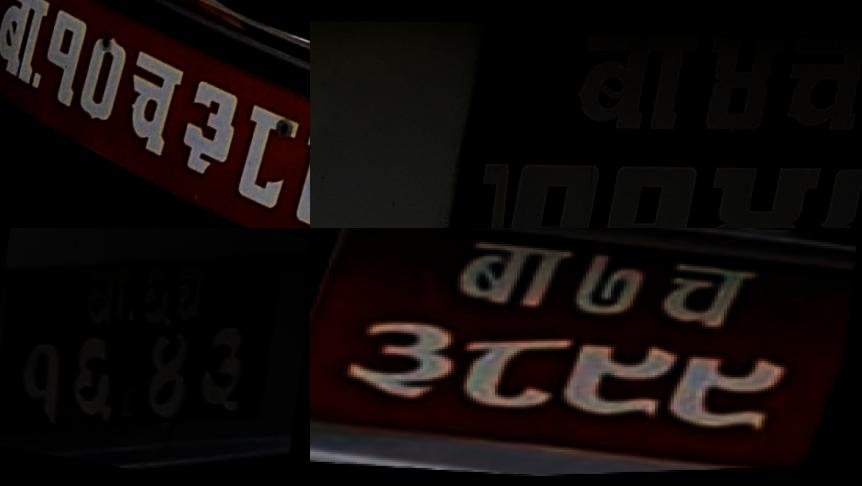0: (73, 30, 140, 130)
1: (586, 152, 719, 228), (34, 1, 98, 116), (15, 330, 70, 436)
3: (329, 312, 473, 412), (173, 78, 254, 187), (196, 321, 255, 428)
4: (687, 25, 795, 150), (687, 149, 836, 228), (139, 325, 197, 437)
6: (67, 329, 125, 436), (138, 258, 180, 338)
7: (451, 142, 619, 228), (562, 249, 663, 326)
8: (438, 319, 584, 424), (224, 100, 310, 220), (285, 121, 310, 228)
9: (659, 340, 816, 446), (549, 329, 694, 432)
ba: (560, 17, 711, 154), (439, 232, 582, 321), (0, 0, 58, 91), (78, 258, 137, 344)
cha: (772, 26, 862, 152), (645, 255, 769, 340), (114, 42, 197, 165), (171, 257, 215, 344)
